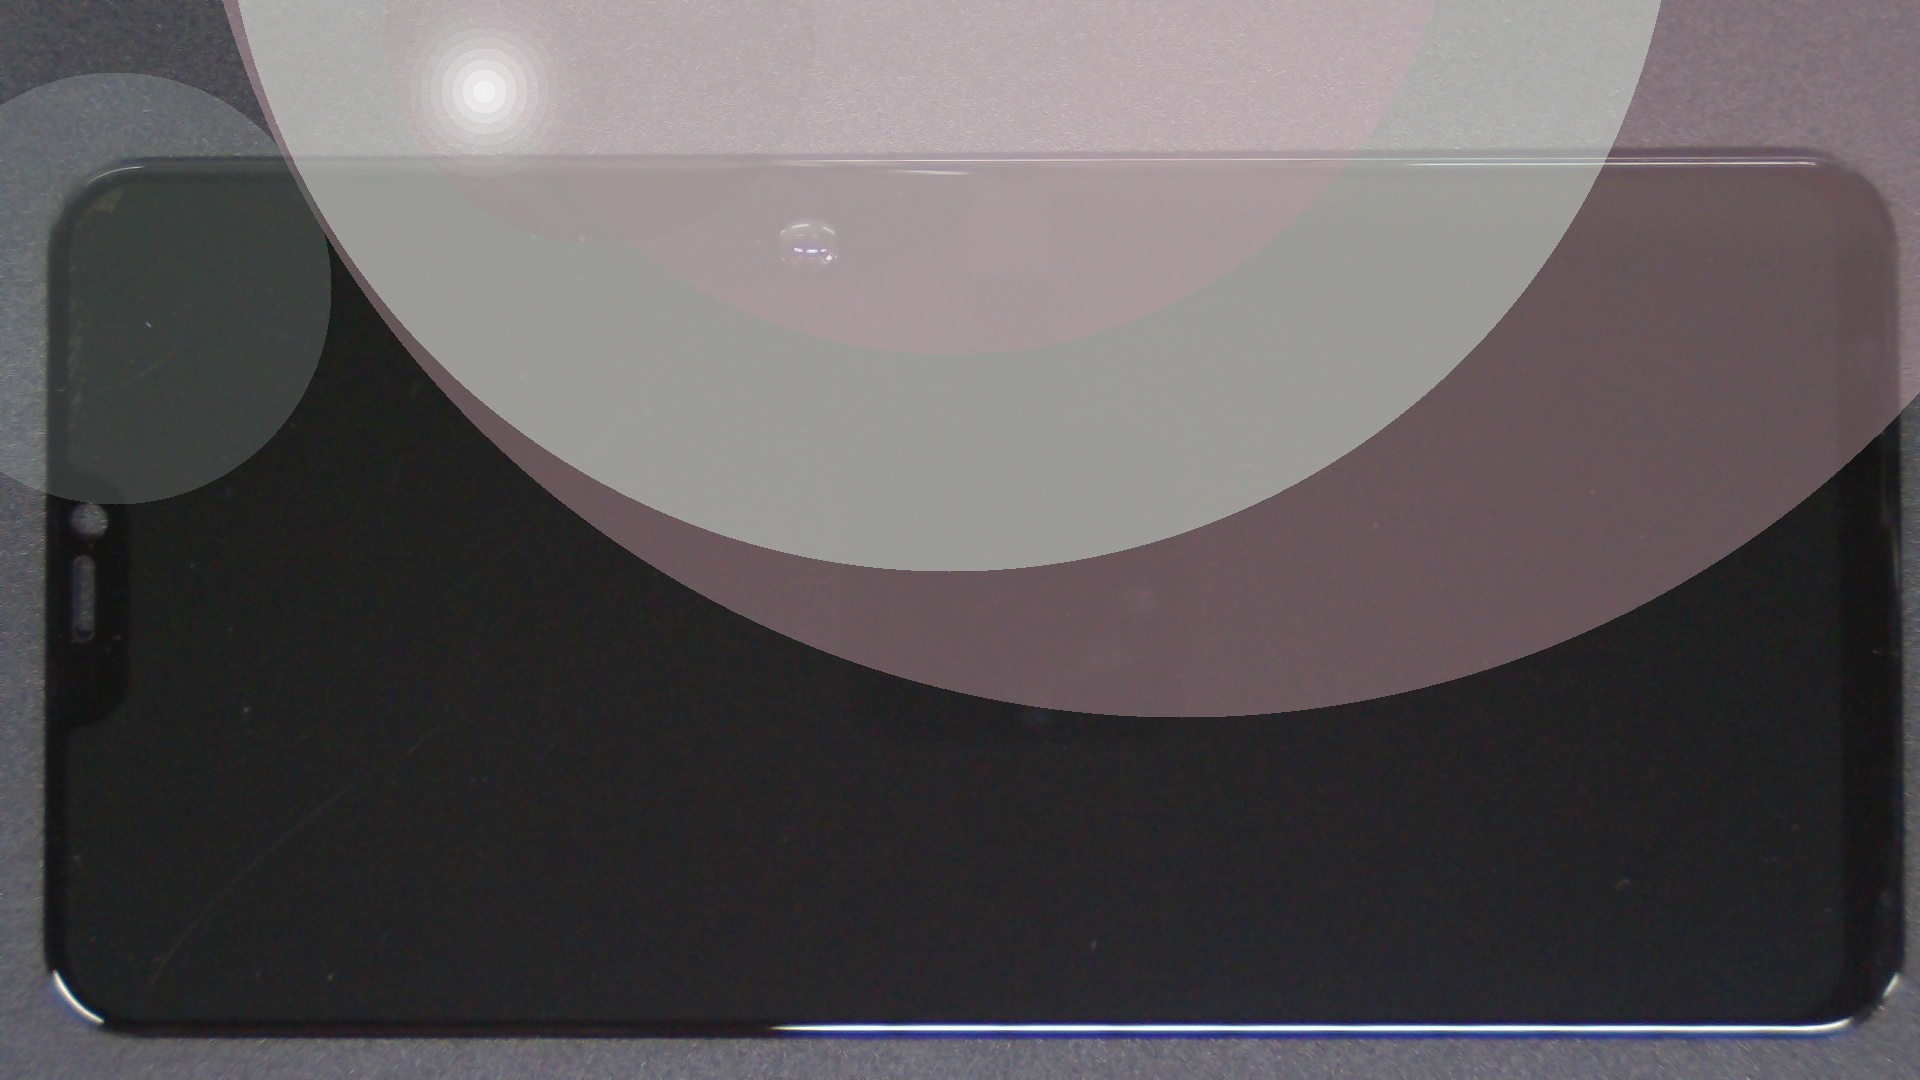oil: (401, 108, 1199, 327)
